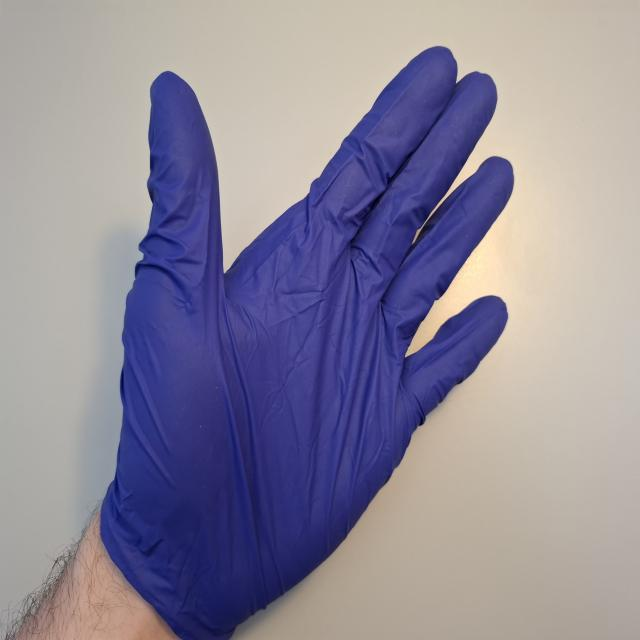glove_on: (94, 41, 519, 640)
